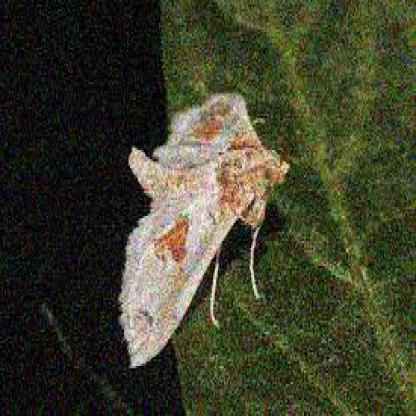leucinodes: (121, 94, 295, 369)
